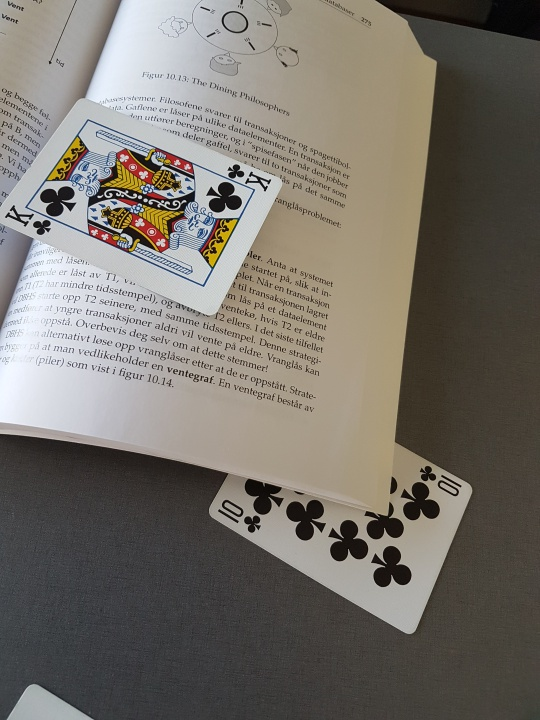10: (204, 388, 476, 652)
king: (1, 96, 280, 338)
